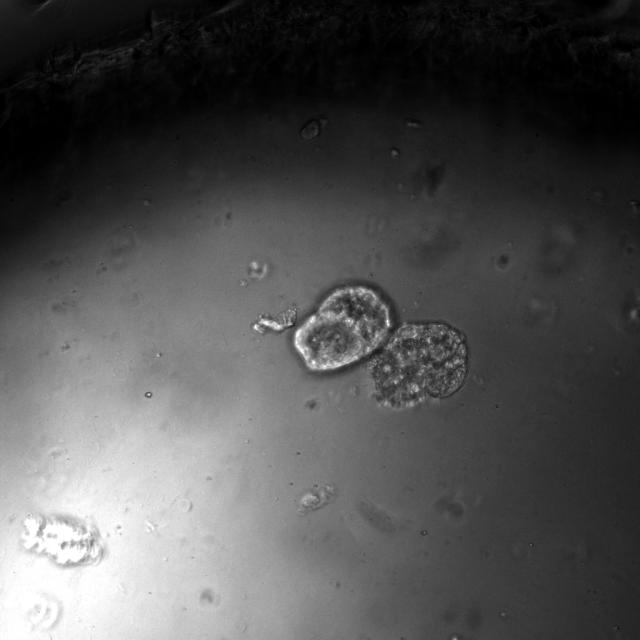organoid: (294, 286, 468, 407), (22, 515, 102, 566), (298, 484, 336, 515)
